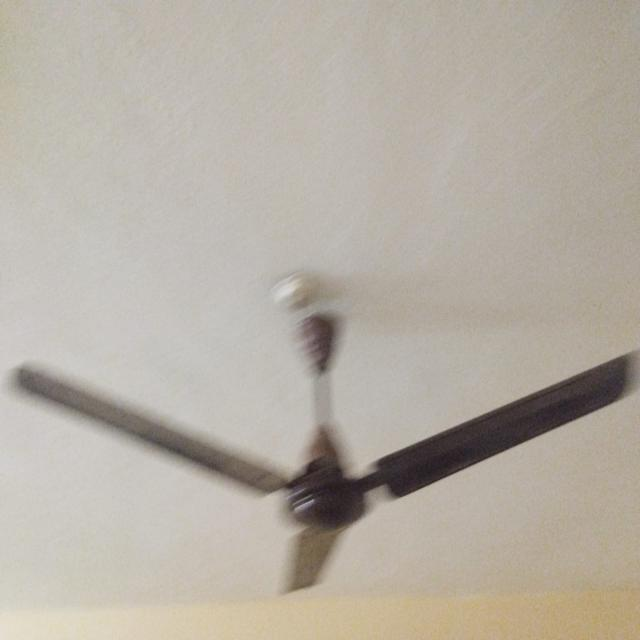fan_off: (14, 304, 640, 592)
